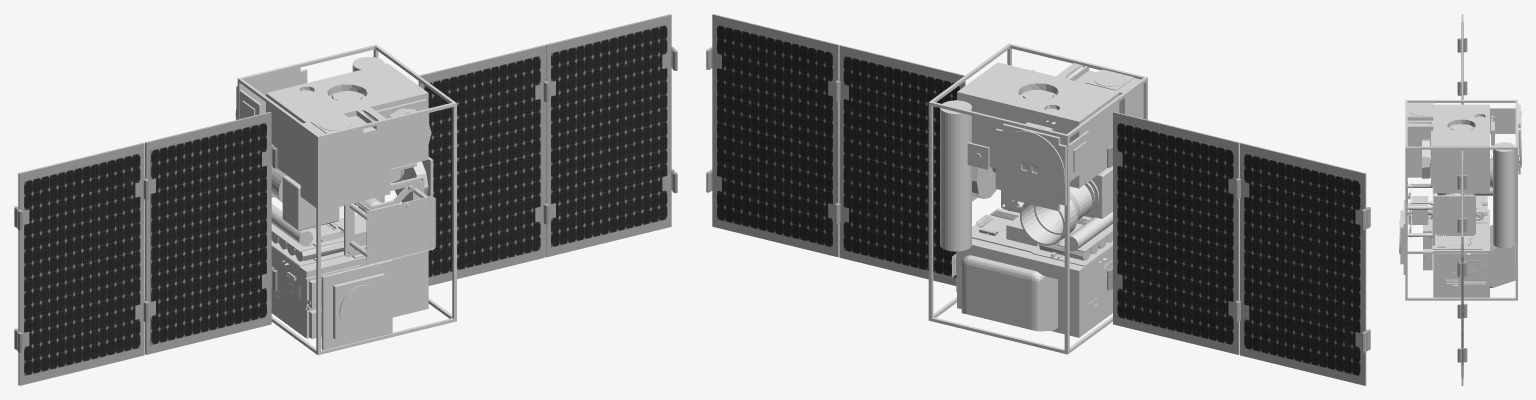
3 renders of one model, left to right at view 1: azimuth 30°, elevation 25°; view 2: azimuth 150°, elevation 25°; view 3: azimuth 270°, elevation 25°, orthographic. The views are drawn at different scales.
Parts seen in each view (by area): view 1: SOLAR_PANEL, ION_BEAM, ALTITUTE_SYSTEM, RADIO, FRAME, FOV, GYRO, STAR_TRACKER, BATTERY, PILASMA, GNSS, SUPERCAPA; view 2: SOLAR_PANEL, ION_BEAM, PILASMA, FRAME, LIDAR, FUEL, STAR_TRACKER, ALTITUTE_SYSTEM, RADIO, BATTERY, GNSS, SUPERCAPA (+1 smaller); view 3: ION_BEAM, FRAME, FUEL, GYRO, SOLAR_PANEL, RADIO, IMU, ALTITUTE_SYSTEM, FOV, LIDAR, PILASMA, BATTERY (+1 smaller).
Boxes of the visible parts, <box> form: SOLAR_PANEL: <box>14,14,677,385</box>; ION_BEAM: <box>266,63,428,338</box>; ALTITUTE_SYSTEM: <box>300,107,390,210</box>; RADIO: <box>305,214,392,350</box>; FRAME: <box>237,44,456,355</box>; FOV: <box>344,176,436,264</box>; GYRO: <box>376,99,433,202</box>; STAR_TRACKER: <box>271,166,339,230</box>; BATTERY: <box>271,223,347,266</box>; PILASMA: <box>235,67,307,119</box>; GNSS: <box>271,251,301,315</box>; SUPERCAPA: <box>271,204,312,246</box>; SOLAR_PANEL: <box>706,14,1370,385</box>; ION_BEAM: <box>957,62,1119,337</box>; PILASMA: <box>995,113,1089,210</box>; FRAME: <box>928,43,1147,354</box>; LIDAR: <box>961,255,1057,331</box>; FUEL: <box>940,100,971,251</box>; STAR_TRACKER: <box>1019,166,1112,245</box>; ALTITUTE_SYSTEM: <box>1056,63,1143,118</box>; RADIO: <box>972,208,1093,252</box>; BATTERY: <box>1031,216,1112,266</box>; GNSS: <box>1081,251,1112,316</box>; SUPERCAPA: <box>1069,211,1112,251</box>; ION_BEAM: <box>1433,104,1489,297</box>; FRAME: <box>1405,100,1517,300</box>; FUEL: <box>1493,142,1515,248</box>; GYRO: <box>1422,131,1475,234</box>; SOLAR_PANEL: <box>1457,14,1467,385</box>; RADIO: <box>1399,200,1482,274</box>; IMU: <box>1437,253,1488,287</box>; ALTITUTE_SYSTEM: <box>1407,102,1433,177</box>; FOV: <box>1407,181,1434,245</box>; LIDAR: <box>1490,224,1515,287</box>; PILASMA: <box>1490,104,1521,174</box>; BATTERY: <box>1476,196,1487,223</box>.
Bounding box in the file's own units: 18.96 × 6 × 4.34.
3 materials, 1 textured.
